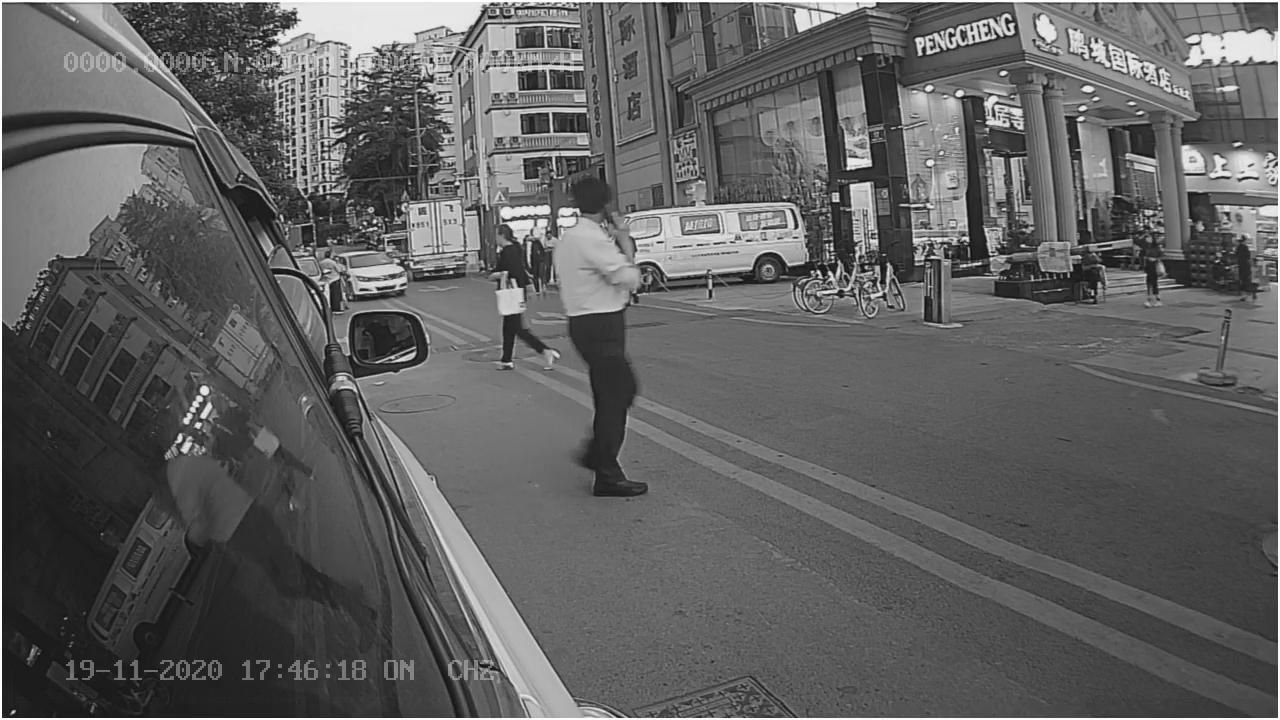person: (546, 178, 668, 510)
